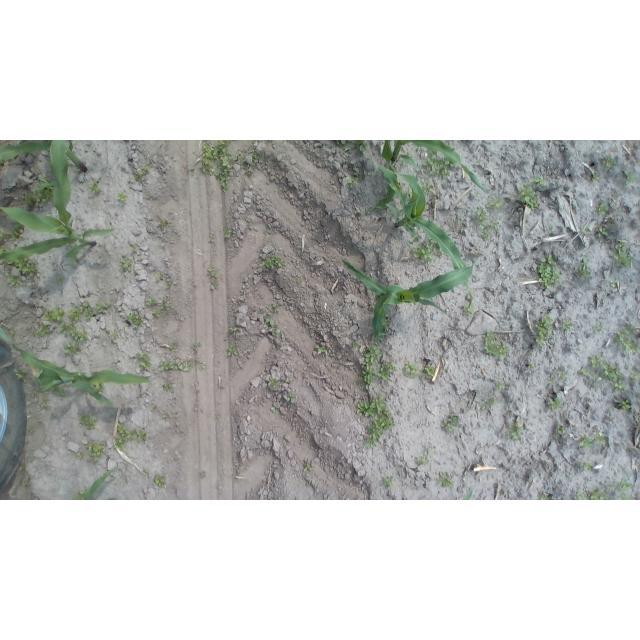Maize: (1, 140, 116, 265), (378, 159, 470, 305), (0, 326, 148, 407), (341, 253, 475, 335), (356, 140, 491, 214), (1, 140, 88, 174), (74, 467, 118, 500), (463, 488, 474, 501)
Weeds: (357, 396, 396, 449), (199, 140, 234, 186), (361, 346, 384, 390), (25, 174, 55, 207), (537, 254, 563, 291), (114, 423, 147, 451), (472, 208, 500, 241), (67, 302, 111, 322), (158, 355, 204, 373), (483, 330, 510, 360), (614, 324, 640, 355), (423, 155, 454, 178), (612, 239, 634, 269), (57, 322, 87, 343), (535, 314, 554, 347), (412, 240, 436, 264), (518, 184, 538, 209), (612, 478, 633, 500), (15, 259, 39, 278), (86, 441, 106, 463), (148, 299, 171, 318), (380, 357, 397, 382), (601, 362, 623, 381), (579, 368, 601, 387), (573, 489, 609, 500), (236, 152, 251, 177), (575, 257, 591, 280), (133, 163, 151, 183), (78, 414, 99, 431), (32, 323, 55, 338), (337, 141, 368, 152), (263, 316, 280, 335), (262, 255, 285, 269), (208, 266, 221, 290), (442, 413, 459, 431), (44, 308, 64, 323), (405, 362, 422, 379), (126, 312, 143, 329), (506, 423, 522, 441), (64, 343, 84, 357), (23, 384, 41, 399), (249, 140, 260, 164), (139, 352, 152, 372), (119, 257, 134, 274), (439, 473, 454, 488), (481, 395, 497, 409), (579, 433, 593, 449), (488, 196, 505, 209), (153, 474, 167, 489), (588, 355, 602, 370), (316, 343, 332, 356), (11, 224, 24, 240), (603, 155, 616, 171), (13, 369, 28, 382), (533, 175, 548, 188), (593, 431, 606, 446), (553, 424, 565, 440), (89, 180, 101, 196), (260, 305, 279, 315), (116, 191, 129, 205), (7, 276, 21, 289), (424, 363, 437, 377), (624, 172, 636, 186), (371, 335, 387, 345), (549, 398, 561, 411), (53, 386, 66, 398), (614, 380, 627, 392), (597, 226, 610, 238), (428, 442, 439, 456), (579, 461, 594, 471), (227, 345, 238, 358), (156, 273, 169, 284), (94, 383, 104, 397), (348, 176, 359, 188), (383, 476, 394, 488), (38, 397, 50, 408), (596, 204, 608, 215), (269, 378, 280, 390), (594, 322, 604, 335), (618, 399, 631, 409), (629, 370, 640, 381), (417, 455, 428, 466), (225, 229, 236, 240), (580, 224, 591, 235), (423, 183, 433, 195), (463, 304, 473, 316), (562, 319, 572, 331), (592, 172, 601, 185), (558, 370, 568, 381), (158, 217, 169, 227), (302, 461, 312, 472), (286, 393, 296, 404), (110, 329, 119, 341), (383, 318, 391, 331), (0, 228, 8, 241), (169, 343, 179, 353), (547, 377, 557, 387), (270, 405, 281, 414), (229, 325, 241, 333), (193, 341, 203, 350), (496, 382, 505, 392), (58, 275, 67, 285), (351, 342, 360, 351), (161, 382, 171, 390), (9, 326, 17, 336), (26, 426, 34, 435), (22, 478, 30, 487), (610, 278, 619, 286), (77, 449, 84, 459), (539, 493, 549, 500), (295, 277, 305, 284), (72, 256, 80, 264), (526, 362, 534, 370), (162, 413, 170, 421), (131, 244, 138, 253), (143, 466, 150, 474), (546, 227, 554, 234), (354, 168, 360, 176), (209, 235, 215, 243), (1, 246, 6, 255), (263, 230, 272, 235), (165, 283, 171, 290), (151, 405, 157, 411), (216, 412, 221, 419), (19, 466, 25, 471), (402, 161, 407, 166), (272, 242, 276, 247)
